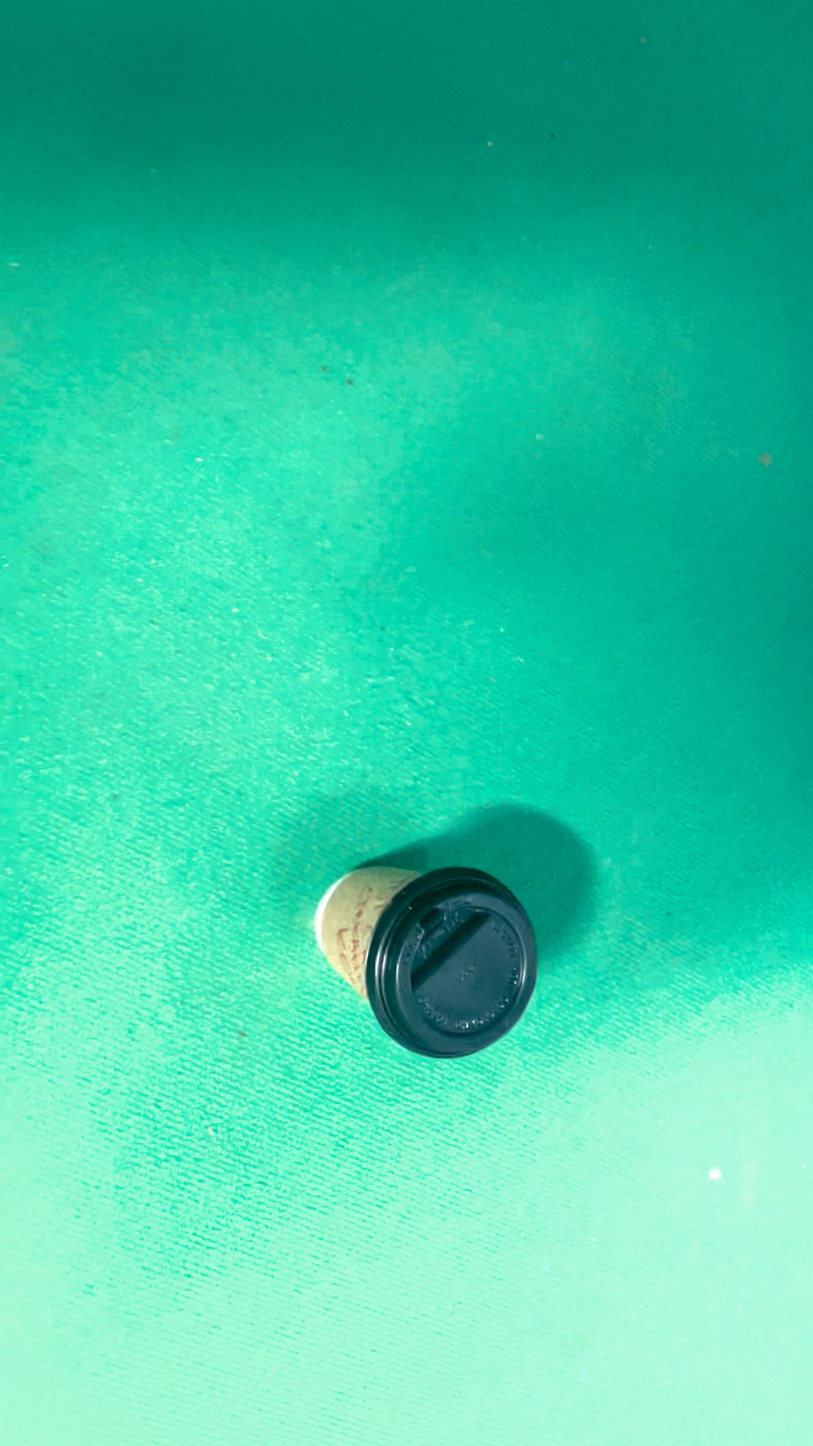cup: (405, 401, 490, 820)
